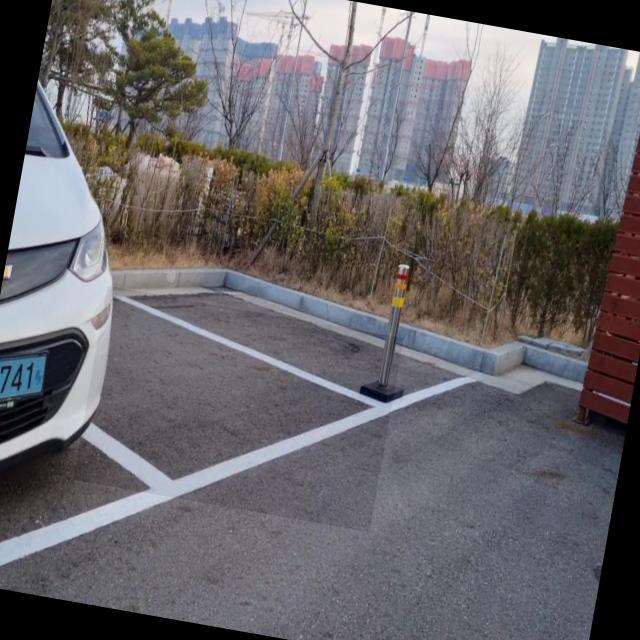empty: (72, 285, 404, 532)
